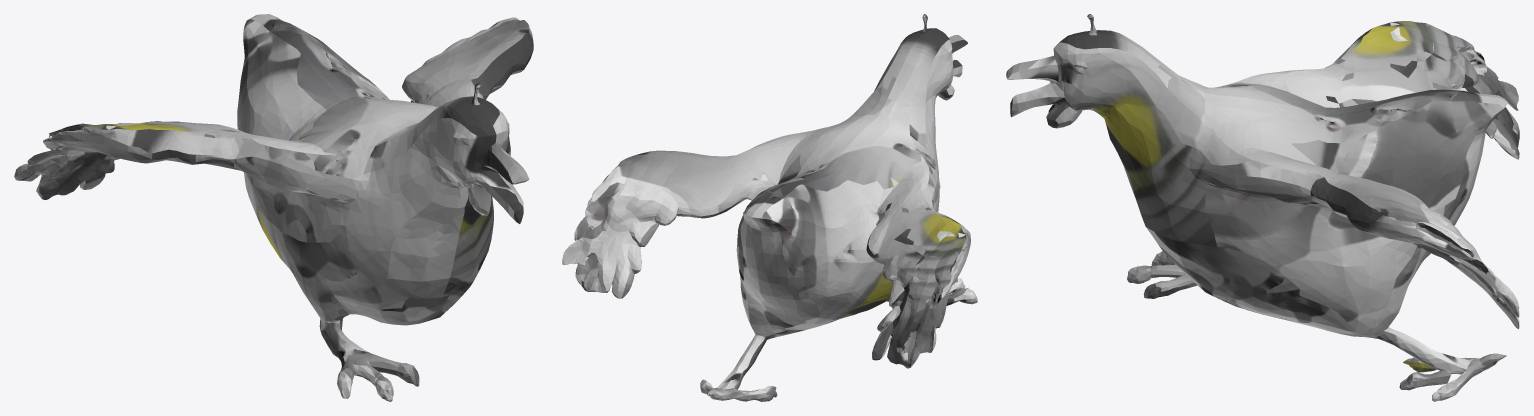
Rendered from prompt_84.obj.
The picture shows the model from 3 angles, left to right: view 1: azimuth 30°, elevation 25°; view 2: azimuth 150°, elevation 25°; view 3: azimuth 270°, elevation 25°; orthographic projection. The views are drawn at different scales.
Parts seen in each view (by area): view 1: geometry_0_0; view 2: geometry_0_0; view 3: geometry_0_0.
Boxes of the visible parts, left/top/right/bottom form: geometry_0_0: left=14, top=14, right=533, bottom=401; geometry_0_0: left=562, top=14, right=977, bottom=401; geometry_0_0: left=1006, top=14, right=1519, bottom=401.
Bounding box in the file's own units: 0.9988 × 0.7452 × 1.
